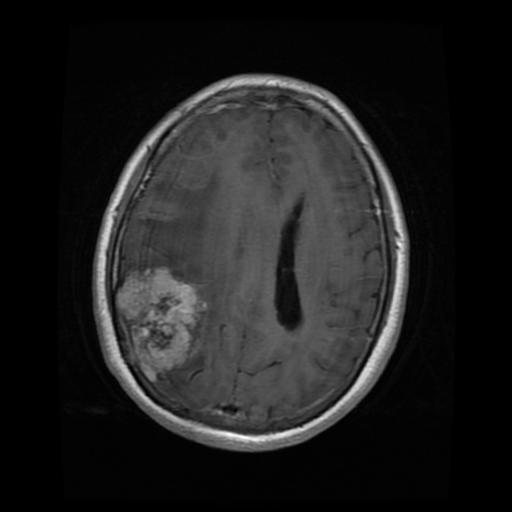Menigiomia_tumour: (116, 266, 199, 381)
